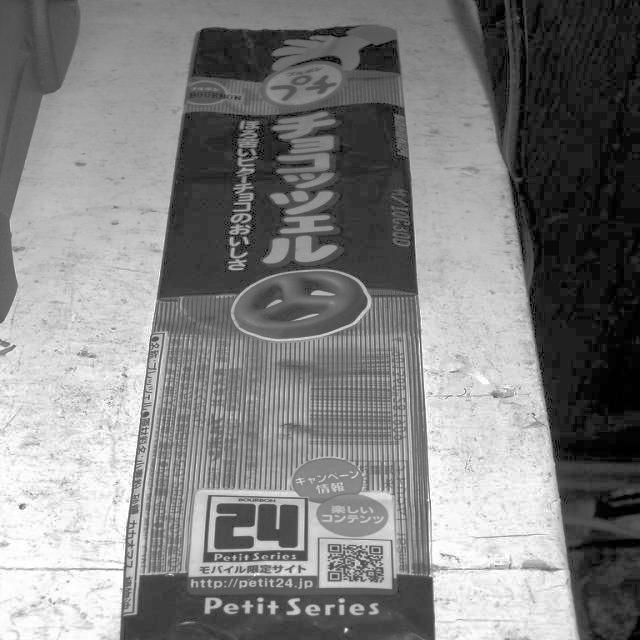qr_code: (328, 544, 384, 582)
